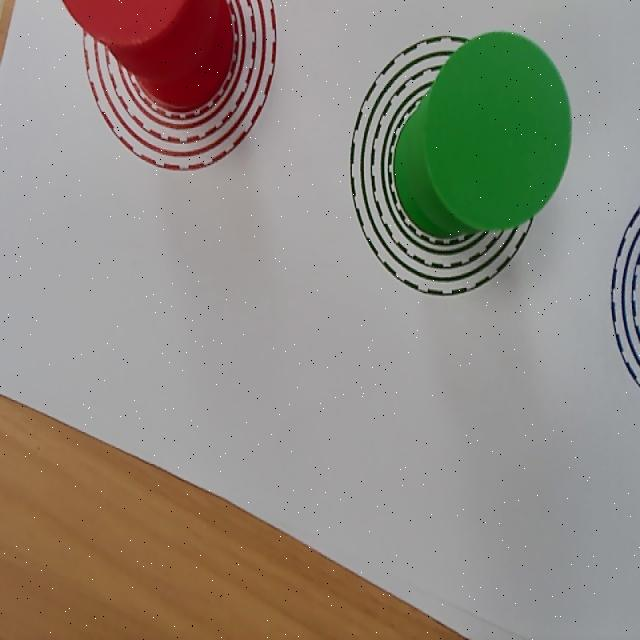g: (426, 31, 572, 228)
